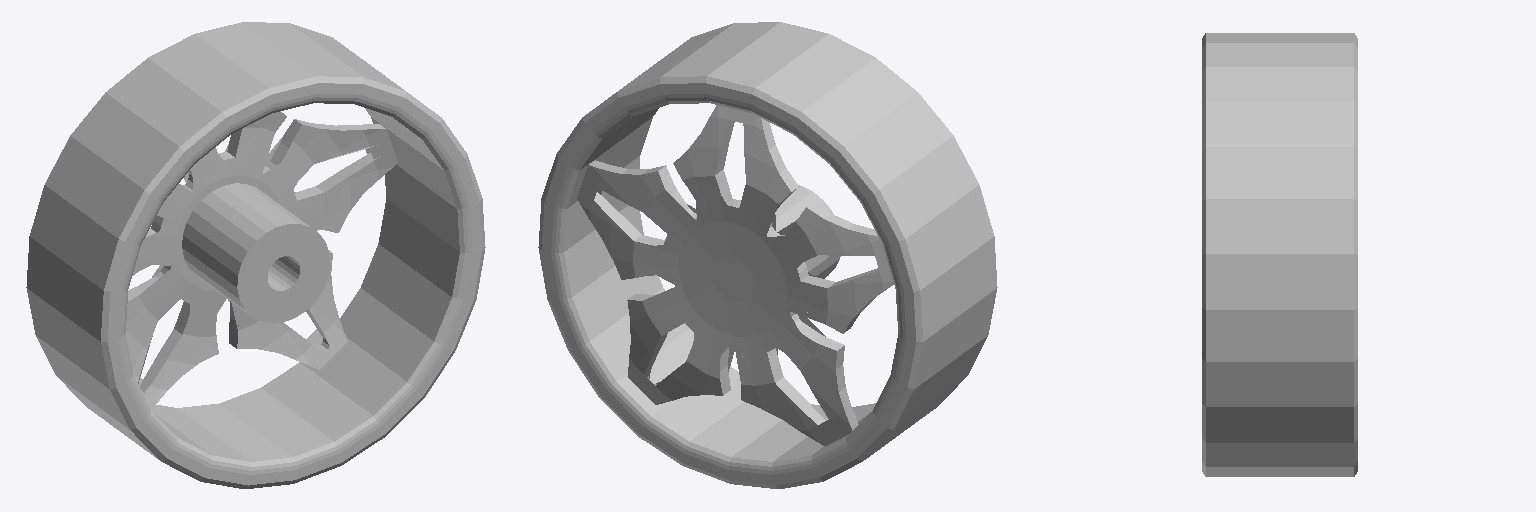
Rendered from llanta_tras_der.obj.
3 renders of one model, left to right at view 1: azimuth 30°, elevation 25°; view 2: azimuth 150°, elevation 25°; view 3: azimuth 270°, elevation 25°, orthographic.
Parts seen in each view (by area): view 1: car.060, car.059; view 2: car.060, car.059; view 3: car.060.
Boxes of the visible parts, <box> form: car.060: <box>26,22,485,488</box>; car.059: <box>126,111,397,410</box>; car.060: <box>538,22,997,488</box>; car.059: <box>577,105,893,445</box>; car.060: <box>1202,33,1357,476</box>.
Size of the model in its own units: 0.7794 by 0.7779 by 0.2746.